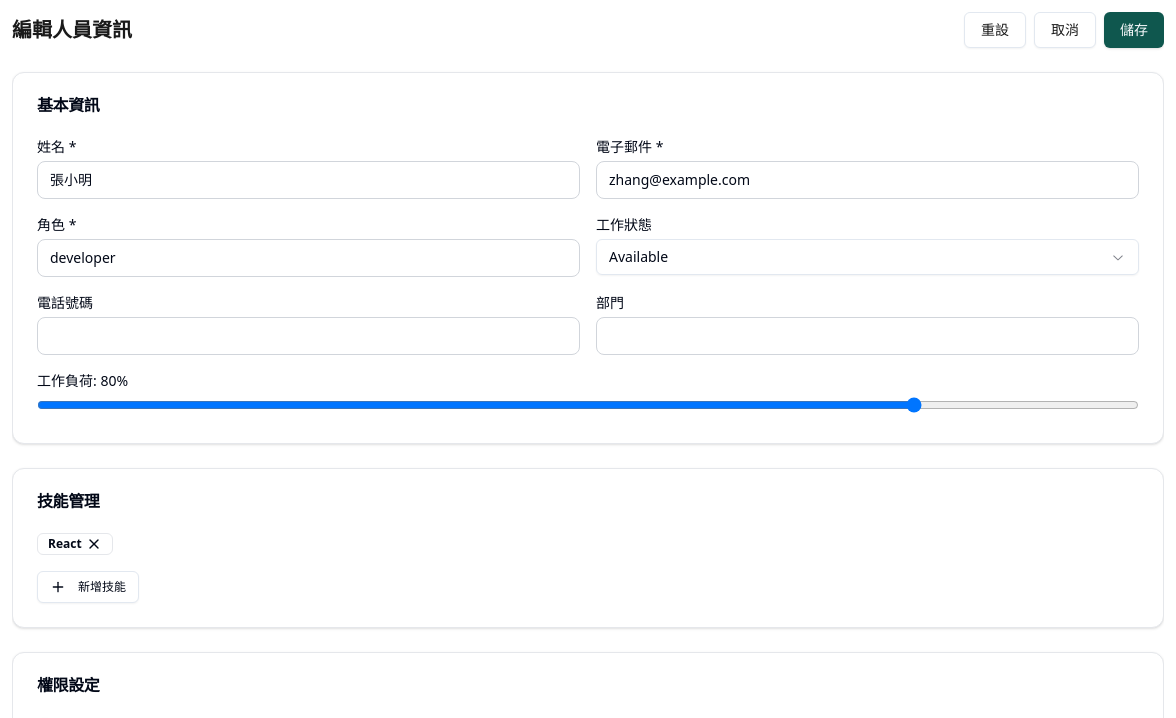
Scenario: MemberEditForm › 應該支援新增技能
Click the button "新增技能".
click(88, 587)  # box [37,571,139,603]
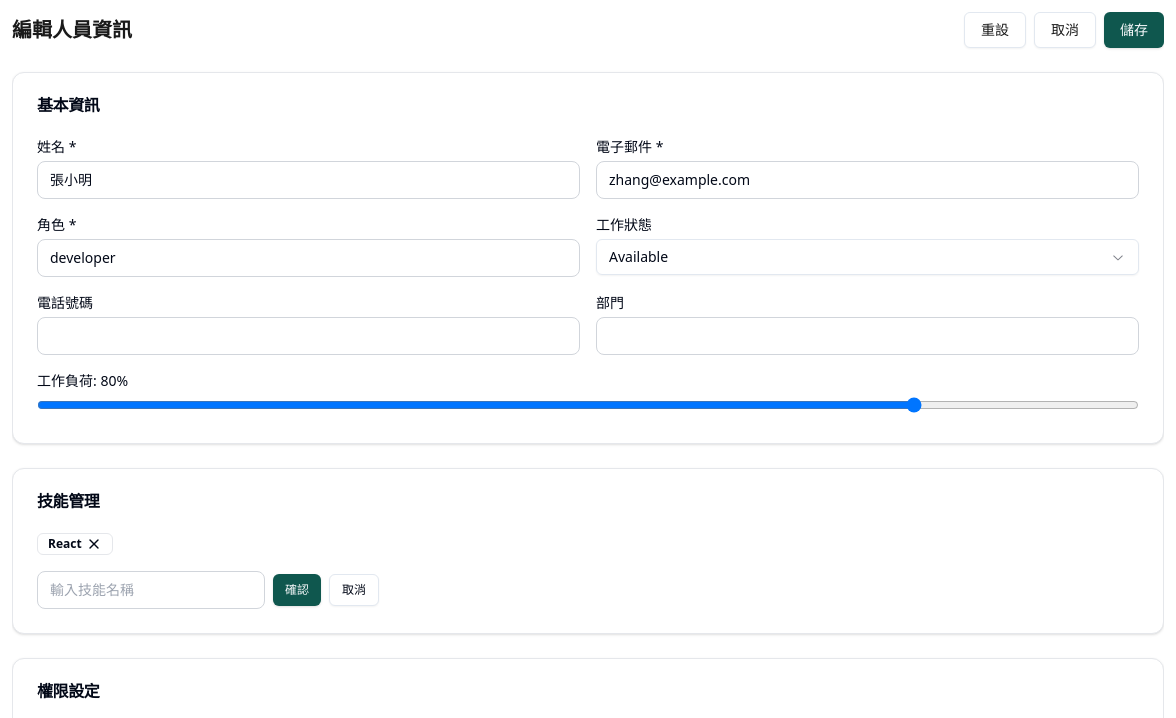
Result: the field with placeholder "輸入技能名稱" is shown at [37,571,265,609]
